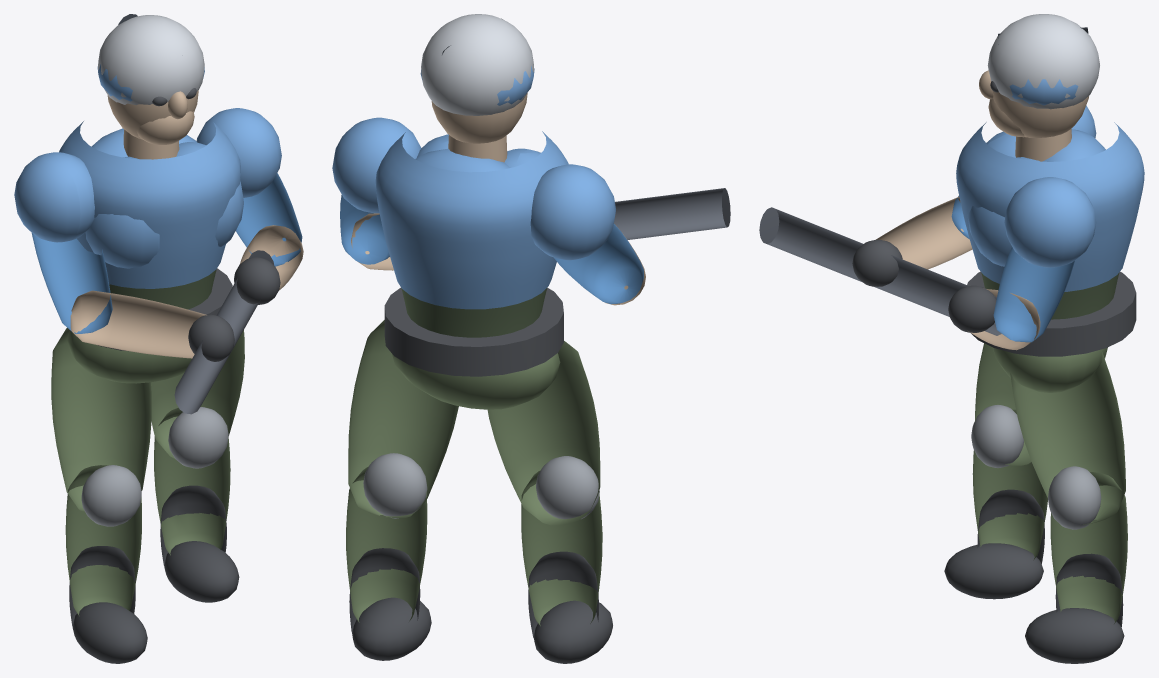
3 views of the same model, side by side, from view 1: azimuth 30°, elevation 25°; view 2: azimuth 150°, elevation 25°; view 3: azimuth 270°, elevation 25° (orthographic). The views are drawn at different scales.
Parts seen in each view (by area): view 1: Hull; view 2: Hull; view 3: Hull.
Part boxes in pixels (left/top/right/bottom): Hull: left=14, top=14, right=303, bottom=663; Hull: left=332, top=14, right=730, bottom=663; Hull: left=759, top=14, right=1144, bottom=663.
Size of the model in its own units: 0.4343 by 0.947 by 0.5429.
